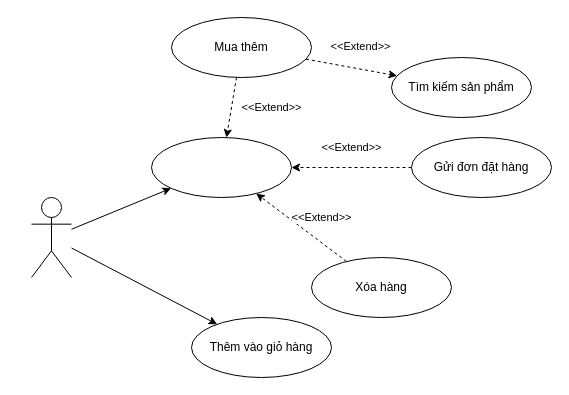
The diagram is 569 pixels wide and 395 high, and some of its shapes have lost their labels. Here are the shapes that lost their labels. From the top down, the centre of each, then its label:
At pixel 221 167: "Đặt hàng".
At pixel 51 237: "Khách hàng".
